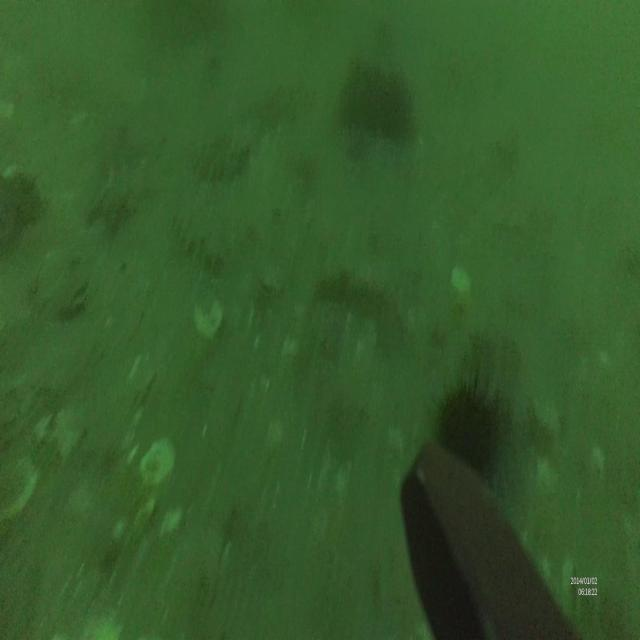echinus: (436, 370, 498, 474)
holothurian: (164, 199, 248, 264), (196, 126, 250, 174)
starfish: (86, 174, 136, 239)
